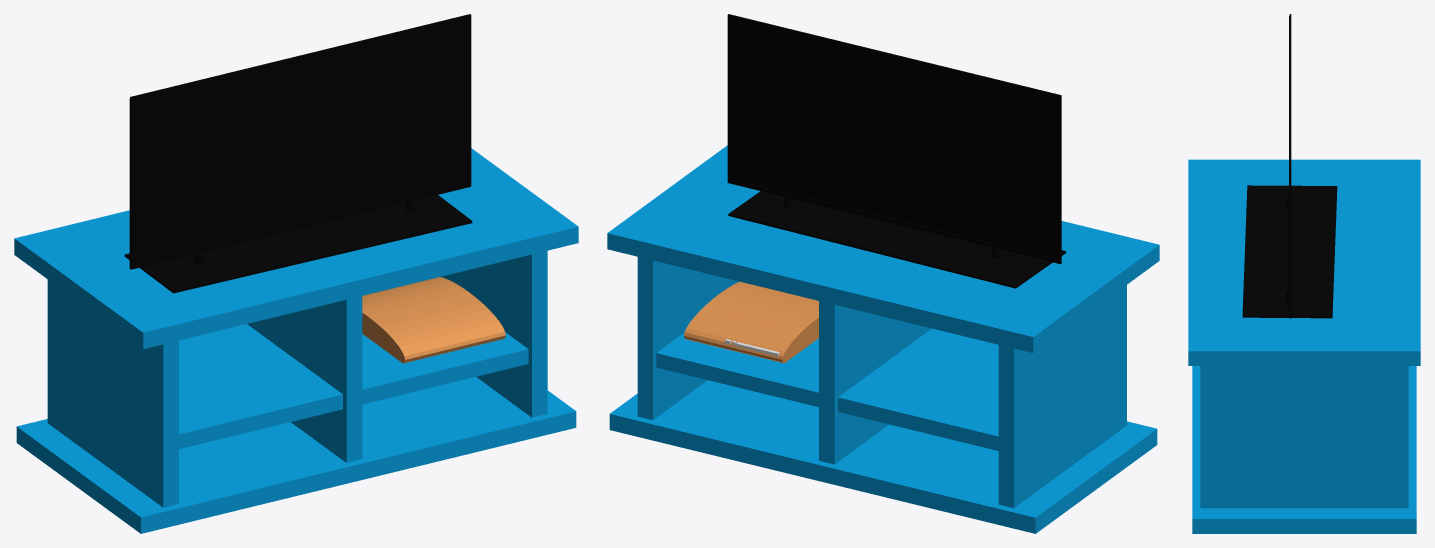
File: 123455ytrrwewdfrgdfgnh.glb
3 views of the same model, side by side, from view 1: azimuth 30°, elevation 25°; view 2: azimuth 150°, elevation 25°; view 3: azimuth 270°, elevation 25° (orthographic). The views are drawn at different scales.
Visible parts, largest first — view 1: Cube.010, Cube.001, Cube, Cube.003, Cube.005, Cube.009, Cube.004, Cylinder, Cube.002, Cube.011; view 2: Cube.010, Cube.001, Cube, Cube.005, Cube.003, Cube.009, Cube.004, Cube.002, Cylinder, Cube.011, Cube.012, Cube.015 (+1 smaller); view 3: Cube.001, Cube.002, Cube.009, Cube, Cube.014, Cube.011, Cube.010.
Boxes of the visible parts, x1,y1,x2,y2 form: Cube.010: (132,16,470,268); Cube.001: (14,148,578,349); Cube: (16,377,576,533); Cube.003: (47,279,178,507); Cube.005: (179,324,528,448); Cube.009: (124,195,472,293); Cube.004: (247,296,362,462); Cylinder: (362,277,505,363); Cube.002: (440,250,547,417); Cube.011: (130,14,471,99); Cube.010: (730,19,1058,258); Cube.001: (607,145,1159,353); Cube: (609,380,1157,533); Cube.005: (656,328,998,450); Cube.003: (998,285,1126,508); Cube.009: (728,191,1065,288); Cube.004: (819,301,931,464); Cube.002: (637,257,739,419); Cylinder: (684,281,818,363); Cube.011: (727,14,1061,99); Cube.012: (727,179,1061,264); Cube.015: (1058,97,1061,263); Cube.001: (1188,159,1420,365); Cube.002: (1200,366,1408,508); Cube.009: (1242,185,1337,318); Cube: (1192,366,1416,533); Cube.014: (1289,165,1291,317); Cube.011: (1289,14,1291,165); Cube.010: (1289,15,1289,316).
Size of the model in its own units: 5.38 by 4.56 by 2.76.
